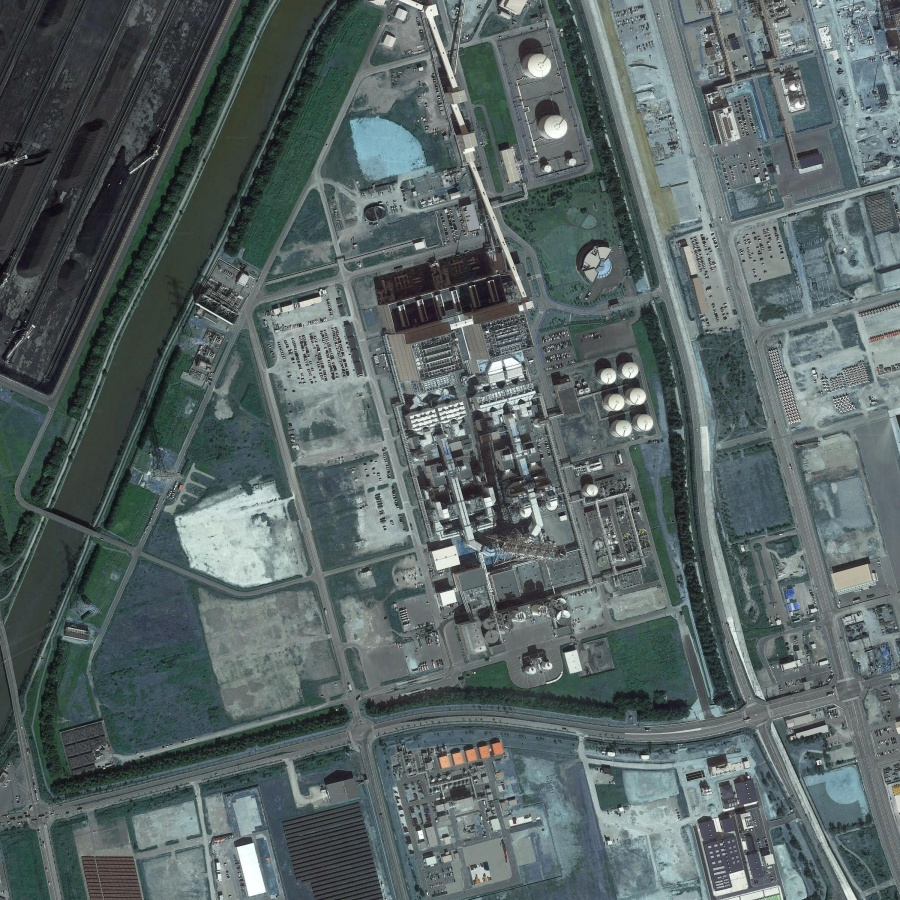PowerPlant: (385, 288, 665, 678)
